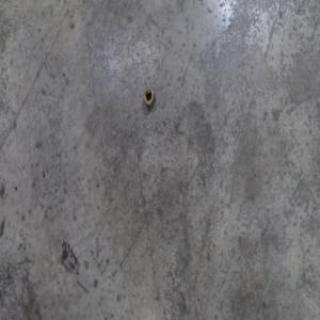Nuttrack_idkeyframe: (142, 85, 155, 109)
